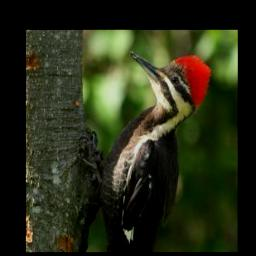Woodpecker: (80, 50, 210, 251)
